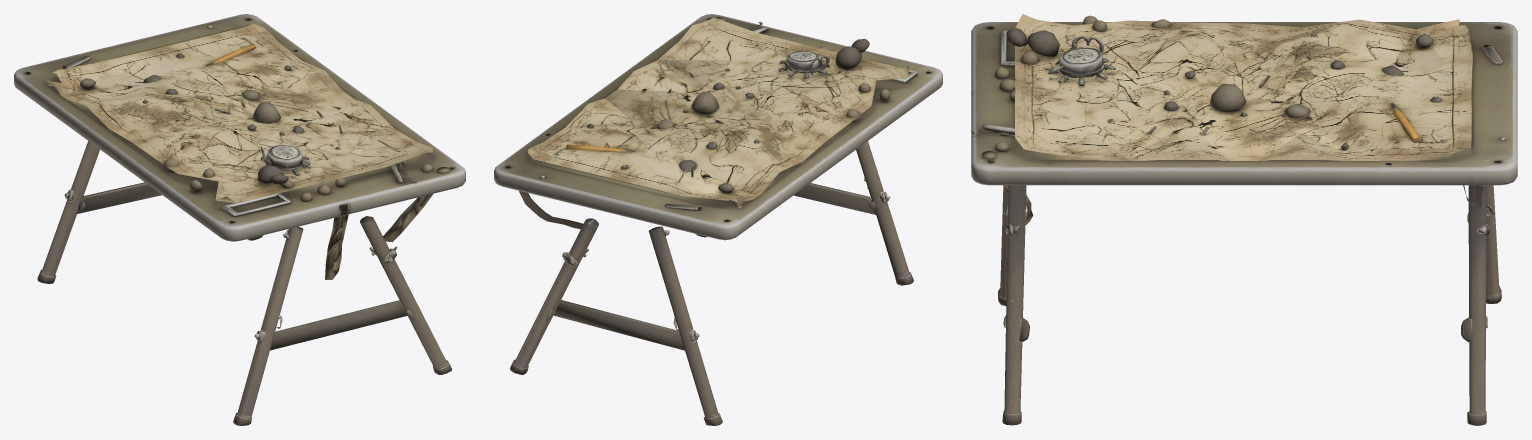
Rendered from survey_fielddesk.glb.
The picture shows the model from 3 angles, left to right: view 1: azimuth 30°, elevation 25°; view 2: azimuth 150°, elevation 25°; view 3: azimuth 270°, elevation 25°; orthographic projection. The views are drawn at different scales.
Visible parts, largest first — view 1: tripo_node_98090971-1922-4a0f-810a-b814aa46a0a4; view 2: tripo_node_98090971-1922-4a0f-810a-b814aa46a0a4; view 3: tripo_node_98090971-1922-4a0f-810a-b814aa46a0a4.
Boxes of the visible parts, bbox=[...] form: tripo_node_98090971-1922-4a0f-810a-b814aa46a0a4: bbox=[14, 14, 465, 425]; tripo_node_98090971-1922-4a0f-810a-b814aa46a0a4: bbox=[494, 14, 942, 425]; tripo_node_98090971-1922-4a0f-810a-b814aa46a0a4: bbox=[971, 14, 1517, 425].
Size of the model in its own units: 0.6426 by 0.5996 by 0.998.
1 material, 1 textured.
